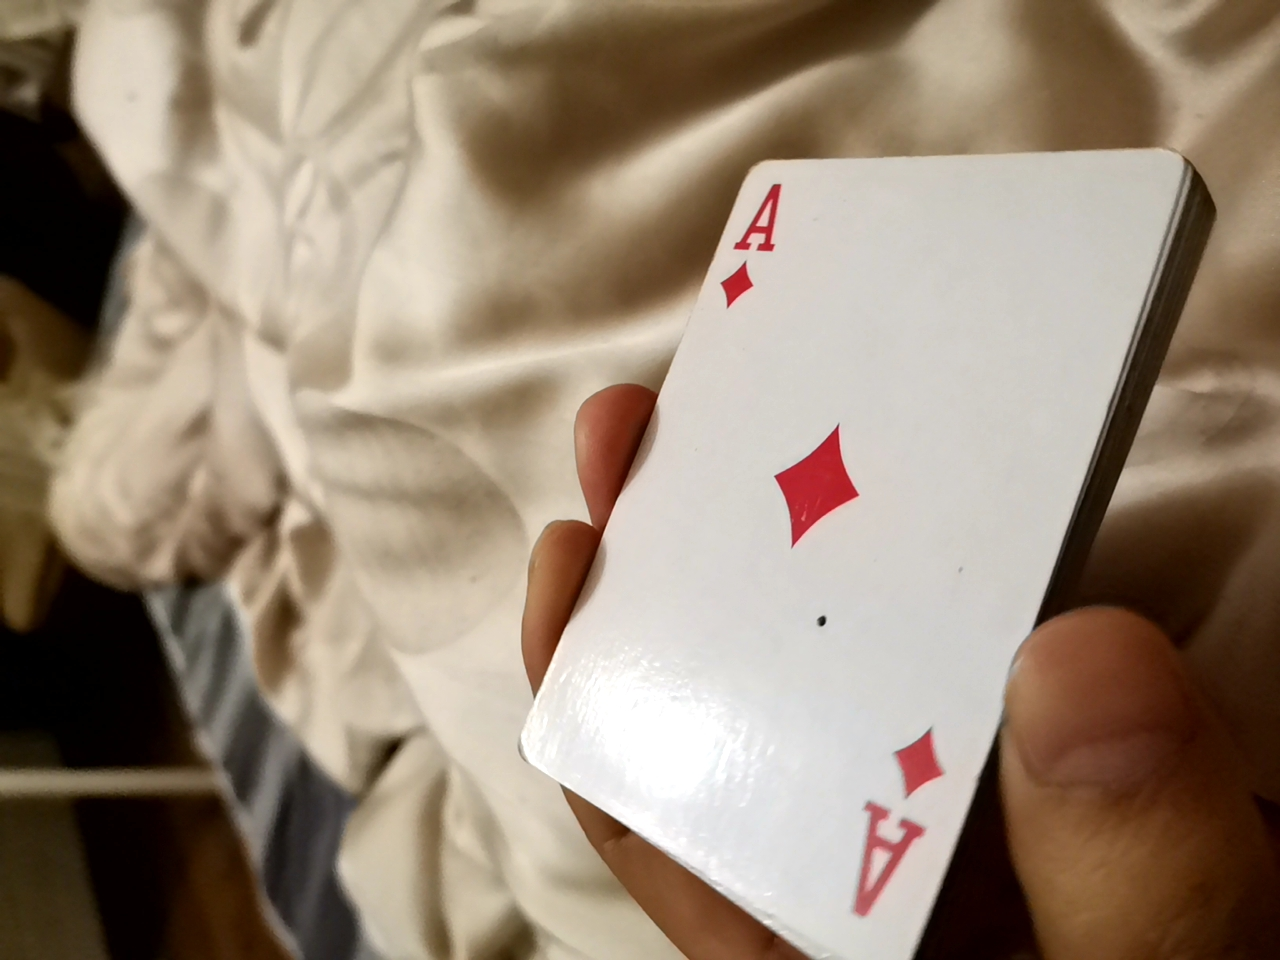fk a: (468, 118, 1138, 956)
